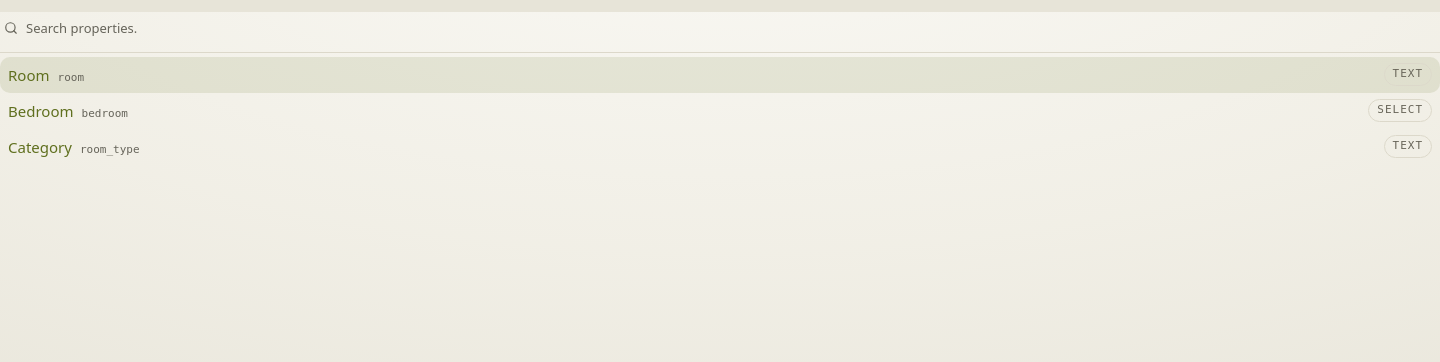
it: PropertyPicker › filters as you type and shows a sentence when nothing matches
Type "ro" into the dropdown named "Choose property".
click(731, 28); type("ro")  # box top-left (26, 12), bottom-right (1436, 44)
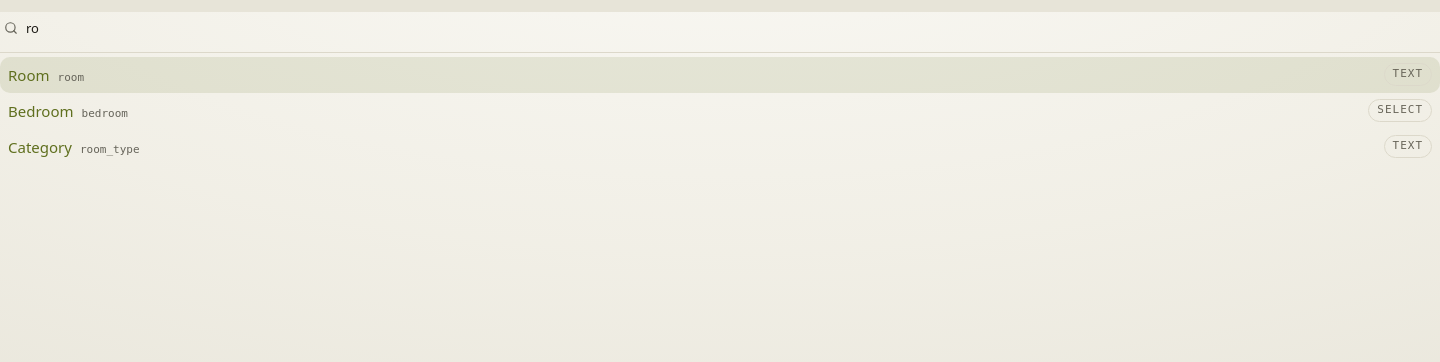
Replace the text in the dropdown named "Choose property" with "zzz" at x=731, y=28, box top-left (26, 12), bottom-right (1436, 44)
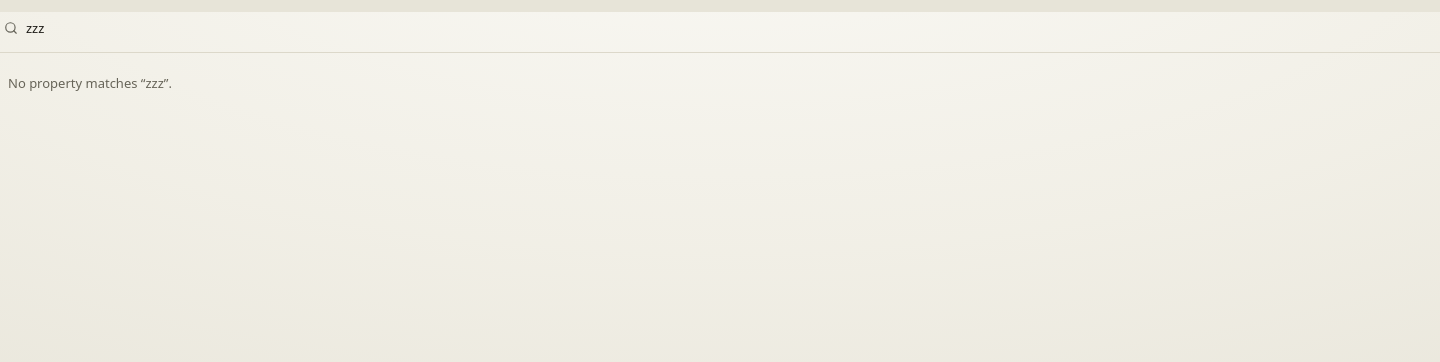
Expected: the text "No property matches “zzz”." is shown, top-left (8, 74), bottom-right (172, 92)
Expected: no options are shown
